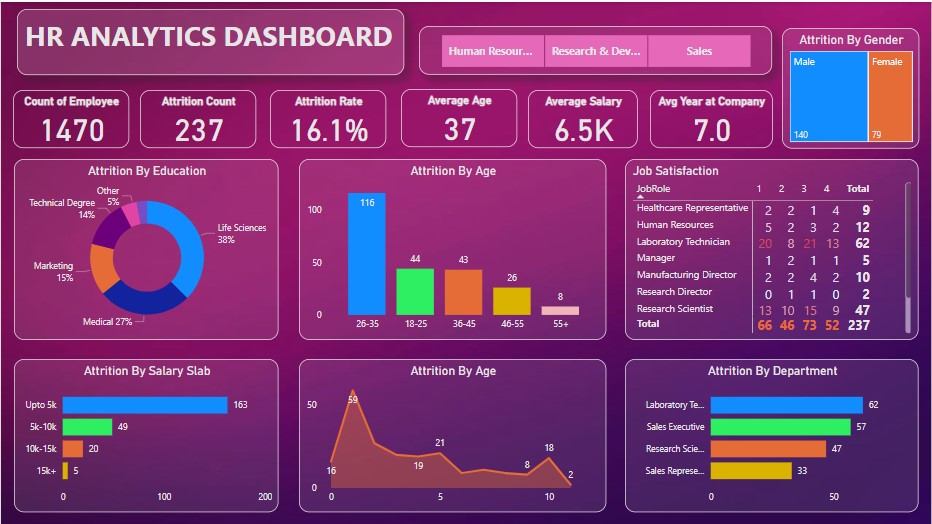

The dashboard page shown, as its layout file describes it:
{"tool":"powerbi","page":{"name":"Page 1","canvas":[1280,720],"ordinal":0},"visuals":[{"type":"card","title":"Count of Employee","fields":{"Values":["CountNonNull(HR_Analytics.EmpID)"]},"box":[17.1,121.4,160,80],"z":0},{"type":"card","title":"Attrition Rate","fields":{"Values":["HR_Analytics.AttritionRate"]},"box":[370,121.4,160,80],"z":1000},{"type":"card","title":"Average Age","fields":{"Values":["Avg(HR_Analytics.Age)"]},"box":[550,120,160,80],"z":2000},{"type":"card","title":"Attrition Count","fields":{"Values":["Sum(HR_Analytics.AttritionCount)"]},"box":[191.4,121.4,160,80],"z":3000},{"type":"card","title":"Average Salary","fields":{"Values":["Avg(HR_Analytics.MonthlyIncome)"]},"box":[725.7,121.4,151.4,80],"z":4000},{"type":"card","title":"Avg Year at Company","fields":{"Values":["Avg(HR_Analytics.YearsAtCompany)"]},"box":[892.9,121.4,168.6,80],"z":5000},{"type":"donutChart","title":"Attrition By Education","fields":{"Category":["HR_Analytics.EducationField"],"Y":["Sum(HR_Analytics.AttritionCount)"]},"box":[17.4,216.5,364.3,248.6],"z":6000},{"type":"columnChart","title":"Attrition By Age","fields":{"Category":["HR_Analytics.AgeGroup"],"Y":["Sum(HR_Analytics.AttritionCount)"]},"box":[410.3,216.5,422.9,248.6],"z":7000},{"type":"pivotTable","title":"Job Satisfaction","fields":{"Rows":["HR_Analytics.JobRole"],"Columns":["HR_Analytics.JobSatisfaction"],"Values":["Sum(HR_Analytics.AttritionCount)"]},"box":[858.8,216.5,404.3,248.6],"z":8000},{"type":"barChart","title":"Attrition By Salary Slab","fields":{"Category":["HR_Analytics.SalarySlab"],"Y":["Sum(HR_Analytics.AttritionCount)"]},"box":[17.4,490.7,364.3,211.4],"z":9000},{"type":"barChart","title":"Attrition By Department","fields":{"Category":["HR_Analytics.JobRole"],"Y":["Sum(HR_Analytics.AttritionCount)"]},"box":[858.8,490.7,404.3,211.4],"z":10000},{"type":"areaChart","title":"Attrition By Age","fields":{"Category":["HR_Analytics.YearsAtCompany"],"Y":["Sum(HR_Analytics.AttritionCount)"]},"box":[410.3,490.7,422.9,211.4],"z":11000},{"type":"treemap","title":"Attrition By Gender","fields":{"Group":["HR_Analytics.Gender"],"Values":["Sum(HR_Analytics.AttritionCount)"]},"box":[1074.3,35.7,188.6,165.7],"z":12000},{"type":"slicer","fields":{"Values":["HR_Analytics.Department"]},"box":[575.7,32.9,485.7,67.1],"z":13000},{"type":"textbox","box":[21.4,10,532.9,91.4],"z":14000}]}

Visuals, with their boxes in screenshot pixels (x1, y1, x2, y2), scaled from the page's 1280x720 canvas onto the 932x524 screenshot:
"Count of Employee" card: (12, 88, 129, 147)
"Attrition Rate" card: (269, 88, 386, 147)
"Average Age" card: (400, 87, 517, 146)
"Attrition Count" card: (139, 88, 256, 147)
"Average Salary" card: (528, 88, 639, 147)
"Avg Year at Company" card: (650, 88, 773, 147)
"Attrition By Education" donutChart: (13, 158, 278, 338)
"Attrition By Age" columnChart: (299, 158, 607, 338)
"Job Satisfaction" pivotTable: (625, 158, 920, 338)
"Attrition By Salary Slab" barChart: (13, 357, 278, 511)
"Attrition By Department" barChart: (625, 357, 920, 511)
"Attrition By Age" areaChart: (299, 357, 607, 511)
"Attrition By Gender" treemap: (782, 26, 920, 147)
slicer - HR_Analytics.Department: (419, 24, 773, 73)
textbox: (16, 7, 404, 74)
